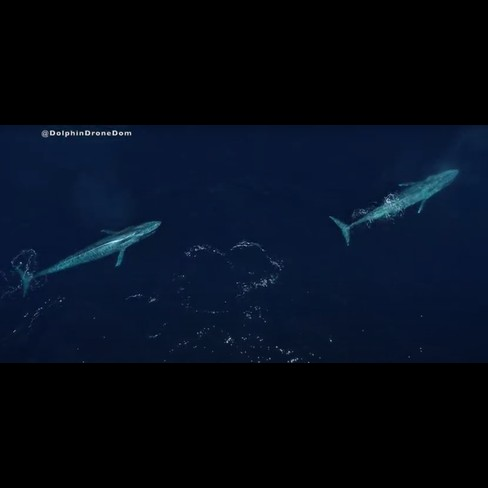bluewhale: (16, 217, 163, 299), (325, 165, 463, 249)
